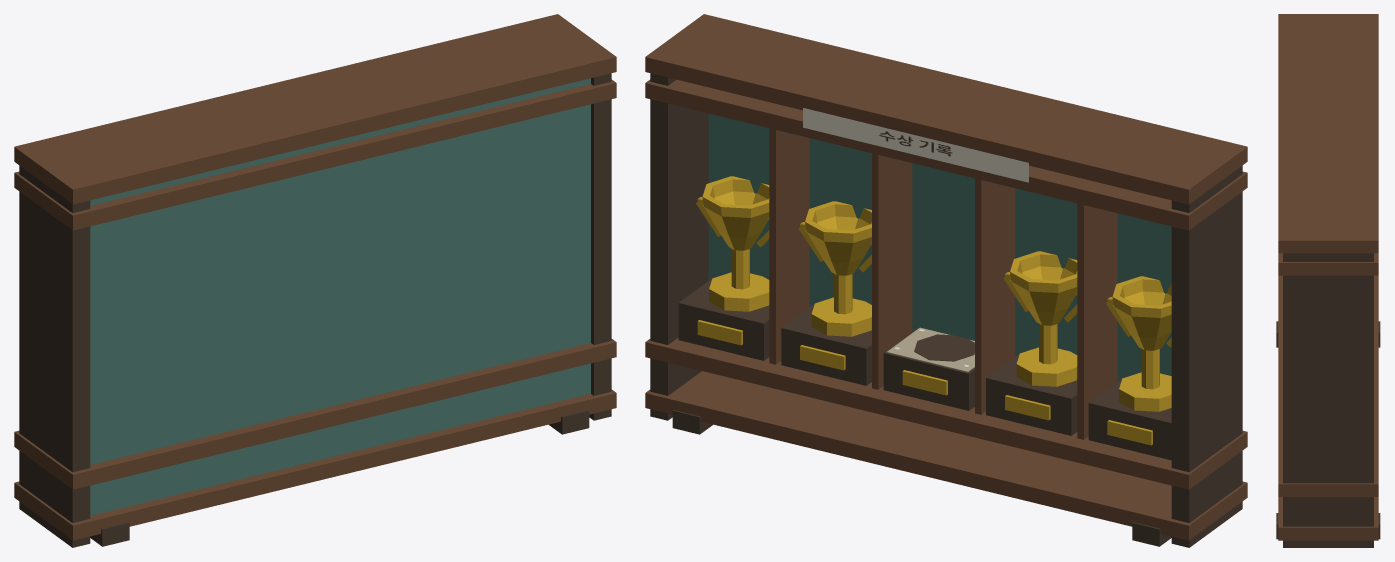
Rendered from S10_Missing_Trophy_Cabinet.fbx.
The picture shows the model from 3 angles, left to right: view 1: azimuth 30°, elevation 25°; view 2: azimuth 150°, elevation 25°; view 3: azimuth 270°, elevation 25°; orthographic projection. The views are drawn at different scales.
Visible parts, largest first — view 1: Structure; view 2: Structure, Trophy_02, Trophy_05, Trophy_04, Trophy_01, Missing_Trophy_Mark; view 3: Structure.
Part boxes in pixels (<box>): Structure: <box>14,14,616,547</box>; Structure: <box>645,14,1247,547</box>; Trophy_02: <box>1003,251,1077,386</box>; Trophy_05: <box>696,176,769,311</box>; Trophy_04: <box>798,201,871,336</box>; Trophy_01: <box>1106,276,1171,411</box>; Missing_Trophy_Mark: <box>886,327,974,372</box>; Structure: <box>1276,14,1380,547</box>.
Bounding box in the file's own units: 4.59 × 2.93 × 0.891.
7 materials, 1 textured.
